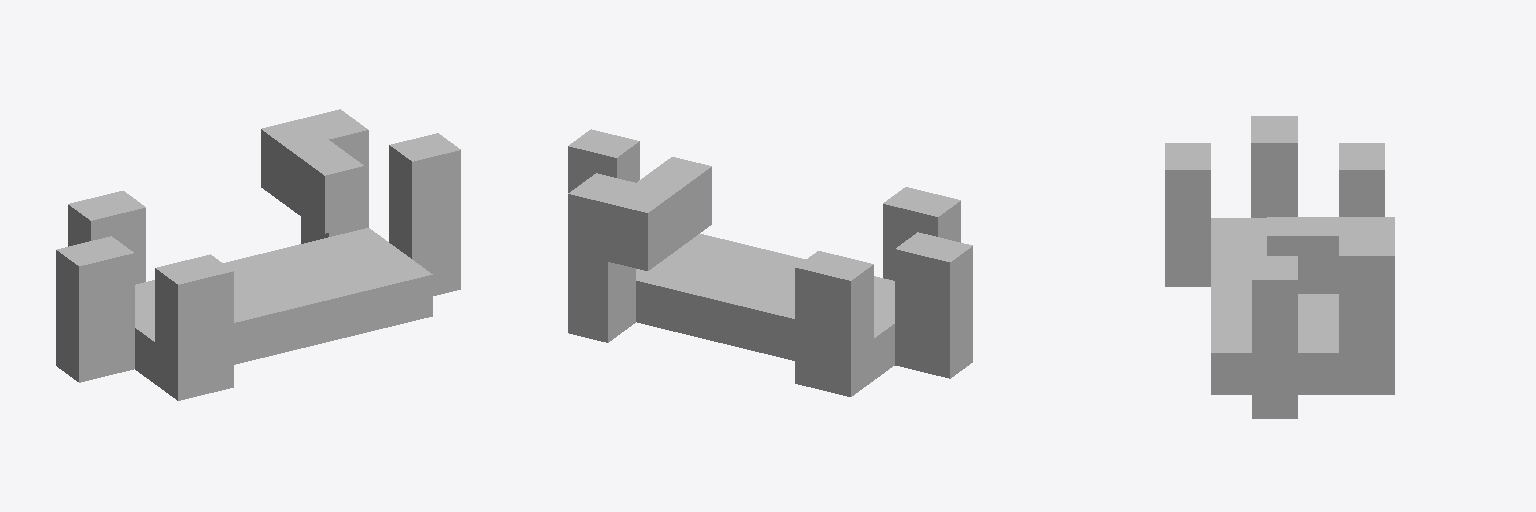
3 renders of one model, left to right at view 1: azimuth 30°, elevation 25°; view 2: azimuth 150°, elevation 25°; view 3: azimuth 270°, elevation 25°, orthographic.
Visible parts, largest first — view 1: mesh_1_Long-5.001; view 2: mesh_1_Long-5.001; view 3: mesh_1_Long-5.001.
Boxes of the visible parts, x1=… form: mesh_1_Long-5.001: x1=56, y1=109, x2=460, y2=400; mesh_1_Long-5.001: x1=568, y1=129, x2=972, y2=396; mesh_1_Long-5.001: x1=1165, y1=116, x2=1394, y2=418.
Size of the model in its own units: 0.172 by 0.06 by 0.09.